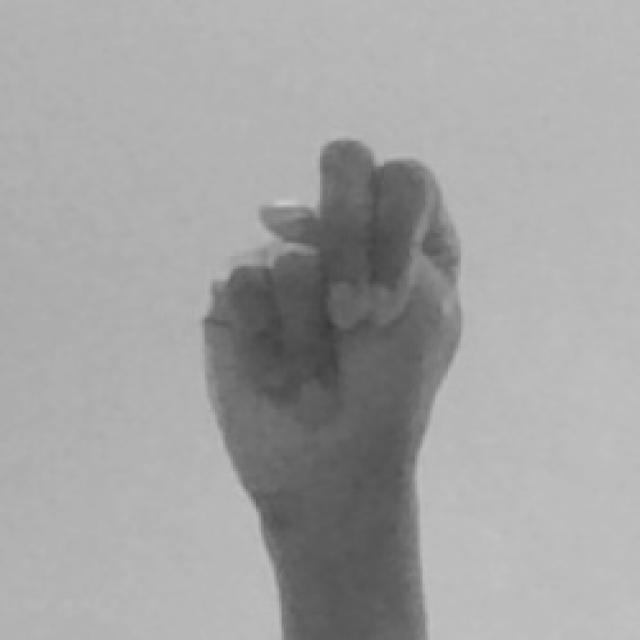N: (191, 130, 470, 640)
